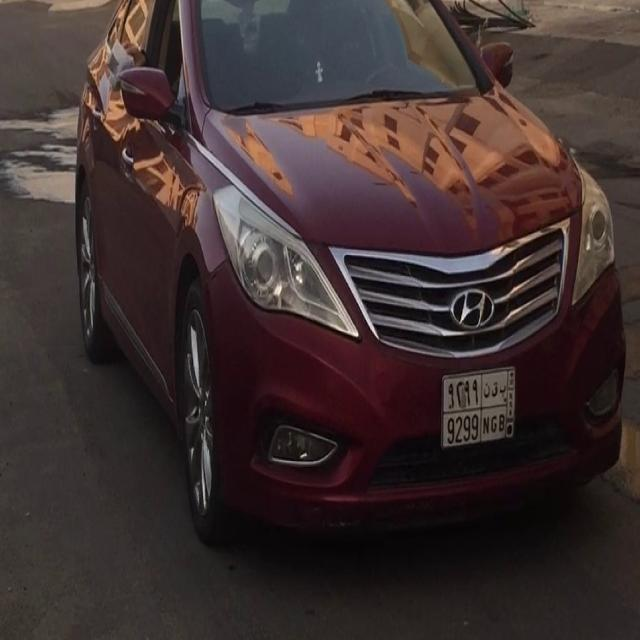Car-plate: (437, 346, 529, 463)
